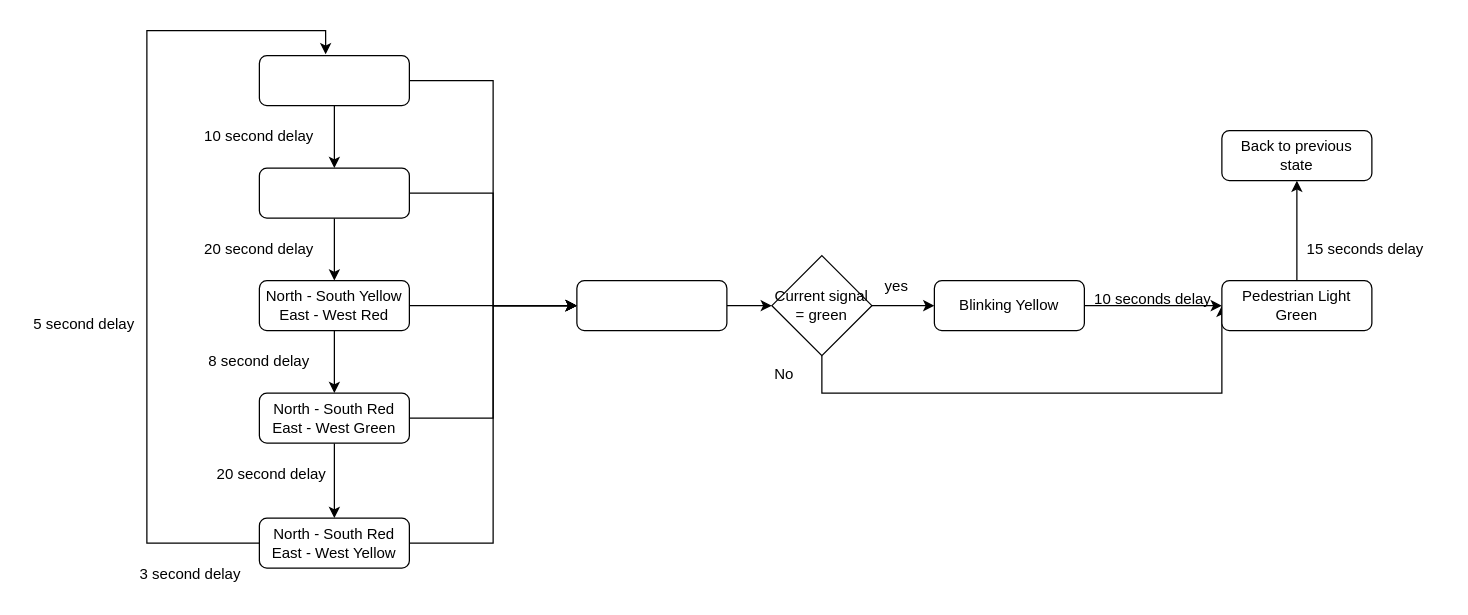
The diagram is 1468 pixels wide and 615 high, and some of its shapes have lost their labels. Each missing label, with the centre of its shape:
"Both Intersections Red" goes at point 333,80.
"North - South Green East - West Red" goes at point 333,192.
"Pedestrian Crossing" goes at point 651,305.
